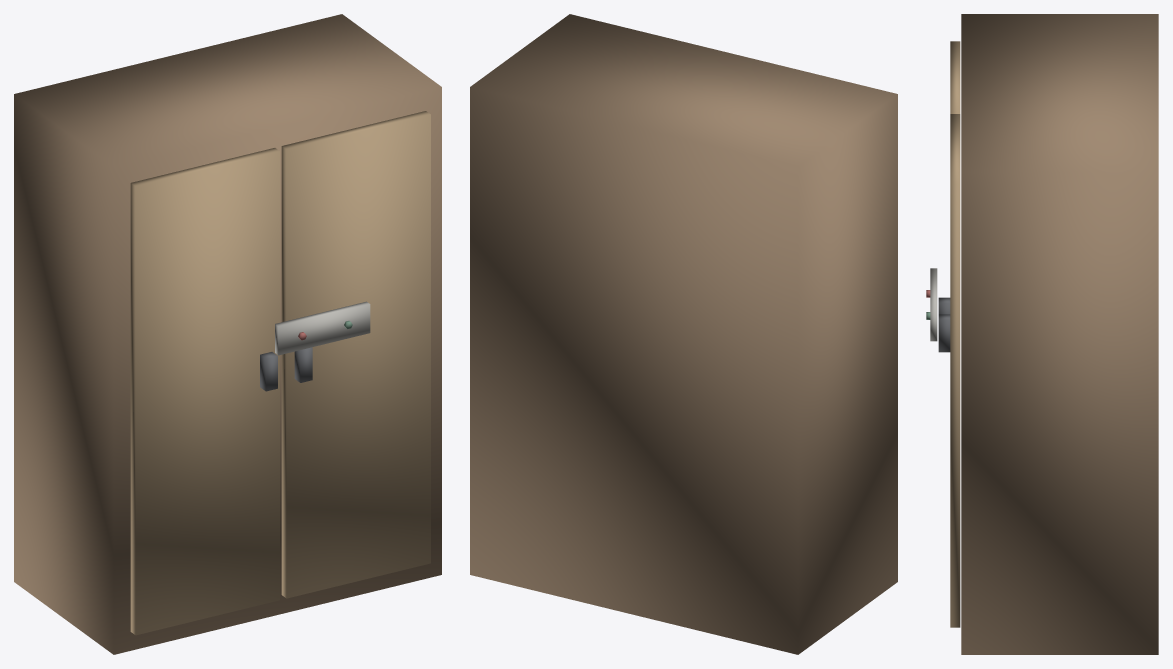
Rendered from evidence_cabinet.glb.
3 renders of one model, left to right at view 1: azimuth 30°, elevation 25°; view 2: azimuth 150°, elevation 25°; view 3: azimuth 270°, elevation 25°, orthographic.
Parts seen in each view (by area): view 1: world; view 2: world; view 3: world.
Part boxes in pixels (x1=…): world: x1=14, y1=14, x2=441, y2=654; world: x1=470, y1=14, x2=897, y2=654; world: x1=926, y1=14, x2=1158, y2=654.
Bounding box in the file's own units: 0.95 × 1.35 × 0.5885.
